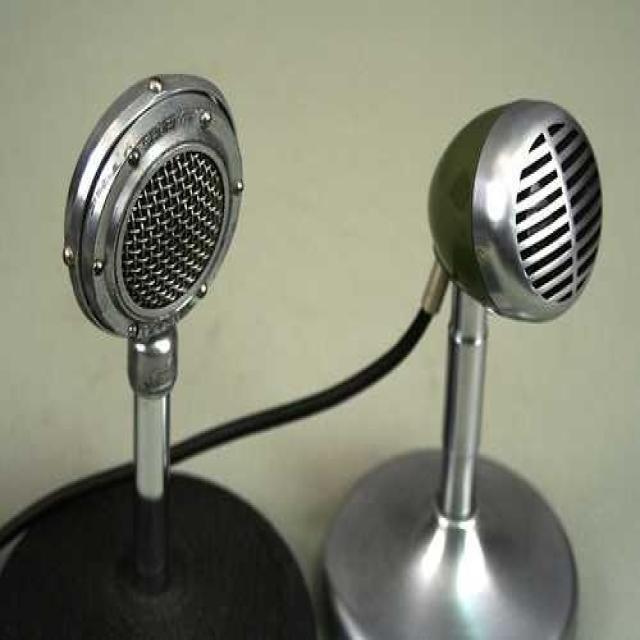microphone: (62, 75, 241, 594), (425, 90, 601, 508)
